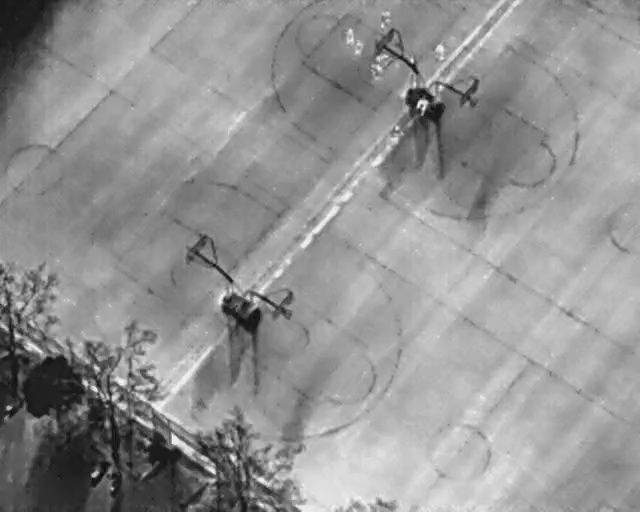Person: (412, 96, 431, 119), (368, 60, 383, 80), (351, 36, 365, 57), (379, 10, 391, 27), (435, 41, 444, 61), (375, 51, 389, 63), (345, 28, 355, 44)
